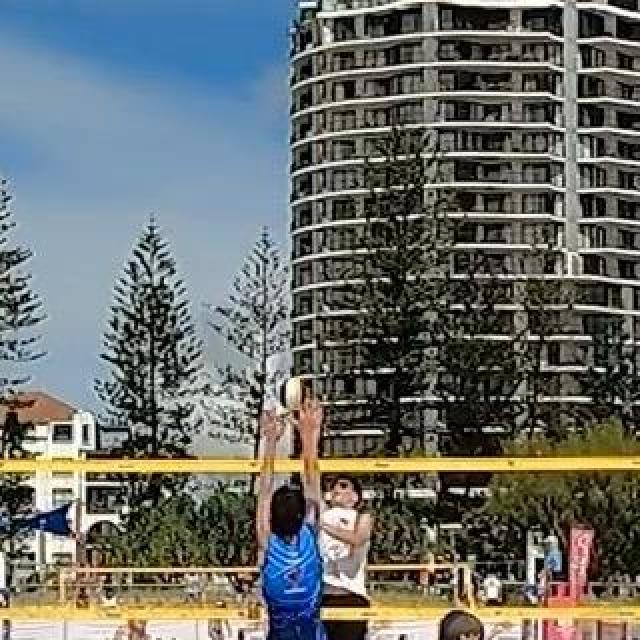volleyball: (273, 379, 309, 411)
